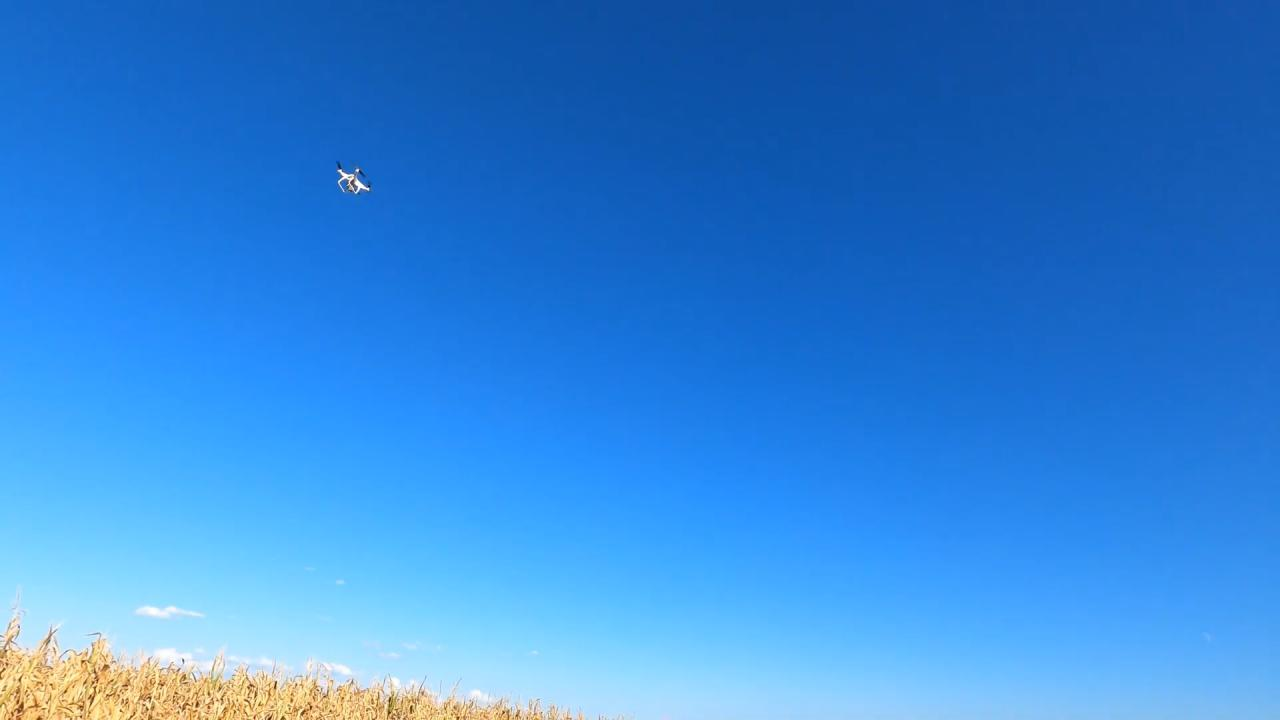Drone: (322, 152, 387, 209)
